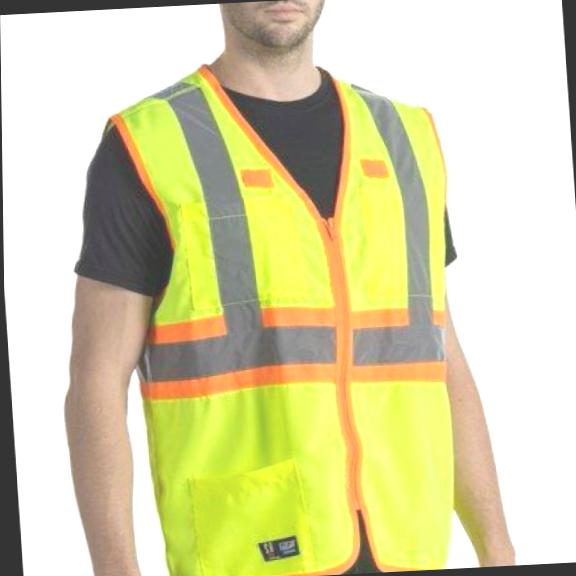safety_vest: (93, 47, 477, 576)
